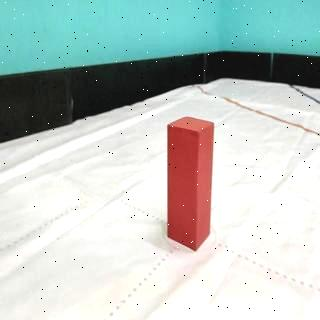redbox: (165, 116, 215, 250)
